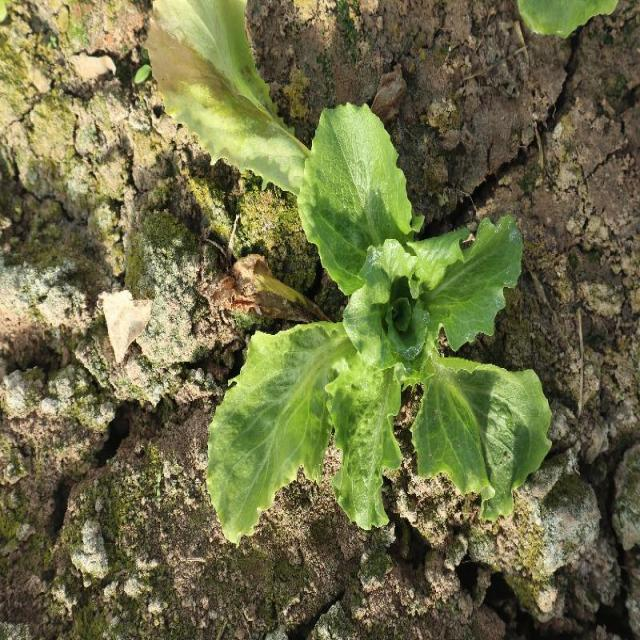crop: (207, 106, 553, 550)
